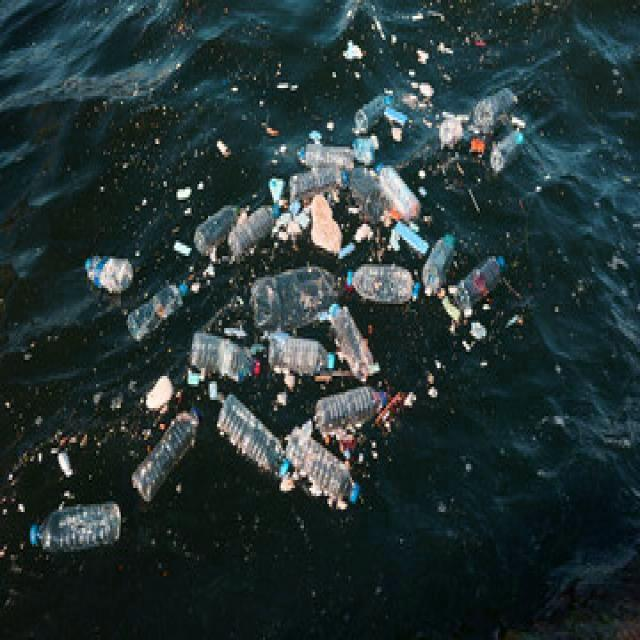Plastic: (129, 401, 208, 506), (215, 386, 295, 483), (280, 427, 367, 511), (243, 266, 340, 330), (23, 496, 121, 555), (182, 325, 263, 387), (343, 257, 424, 312), (323, 298, 372, 386), (313, 381, 389, 434), (229, 195, 288, 262), (125, 280, 188, 339), (368, 156, 423, 221), (302, 186, 350, 260), (193, 198, 250, 254), (263, 337, 339, 375), (78, 249, 133, 299), (458, 252, 513, 302), (420, 226, 461, 293), (468, 83, 518, 131), (293, 140, 361, 171), (290, 165, 351, 199), (488, 127, 529, 174), (384, 216, 429, 255), (355, 89, 389, 131)
